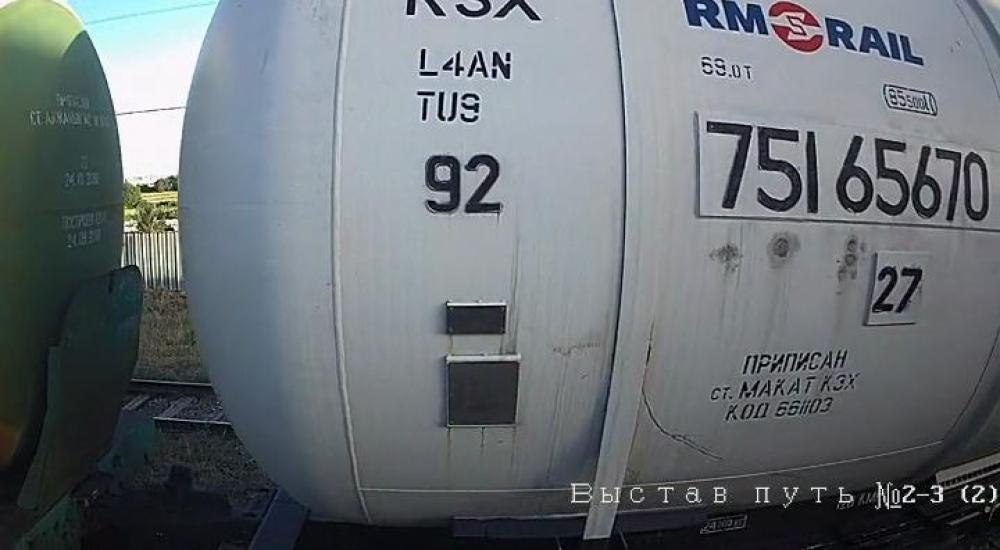Wagon-number: (701, 115, 1000, 225)
